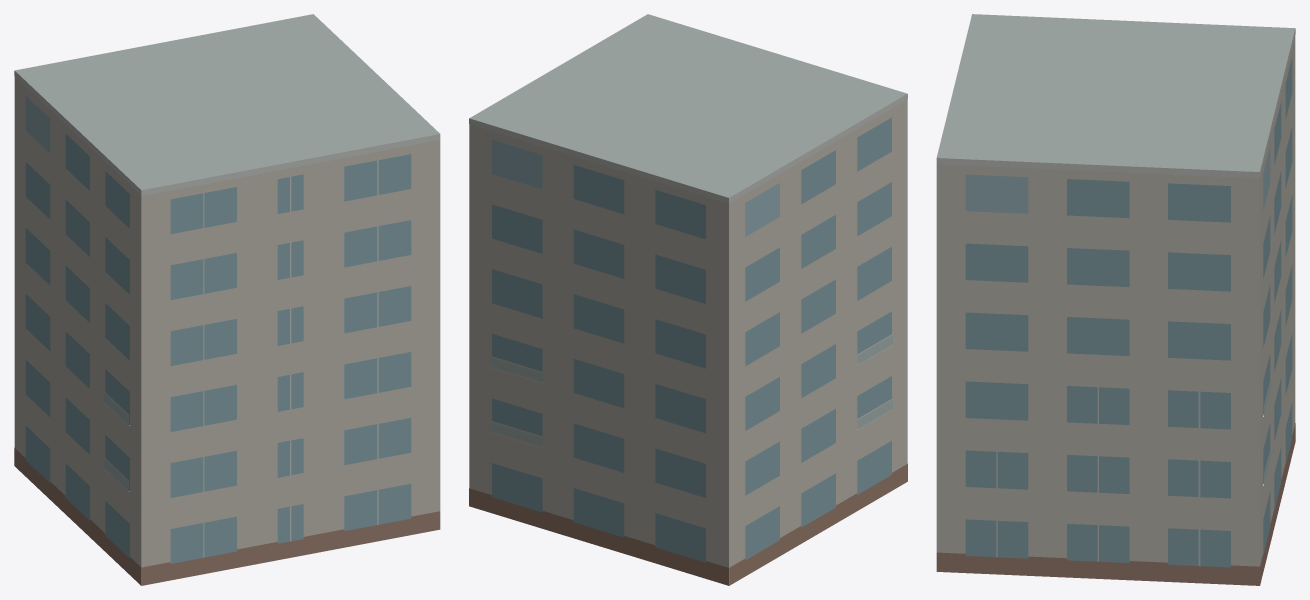
The model's file is survey-upis-32610675.glb.
3 views of the same model, side by side, from view 1: azimuth 30°, elevation 25°; view 2: azimuth 150°, elevation 25°; view 3: azimuth 270°, elevation 25° (orthographic). The views are drawn at different scales.
Parts seen in each view (by area): view 1: survey-upis-32610675.tmp; view 2: survey-upis-32610675.tmp; view 3: survey-upis-32610675.tmp.
Part boxes in pixels (x1,y1,x2,y2): survey-upis-32610675.tmp: (14, 14, 440, 585); survey-upis-32610675.tmp: (469, 14, 907, 585); survey-upis-32610675.tmp: (936, 14, 1295, 585).
Size of the model in its own units: 13.36 by 16.3 by 12.82.
